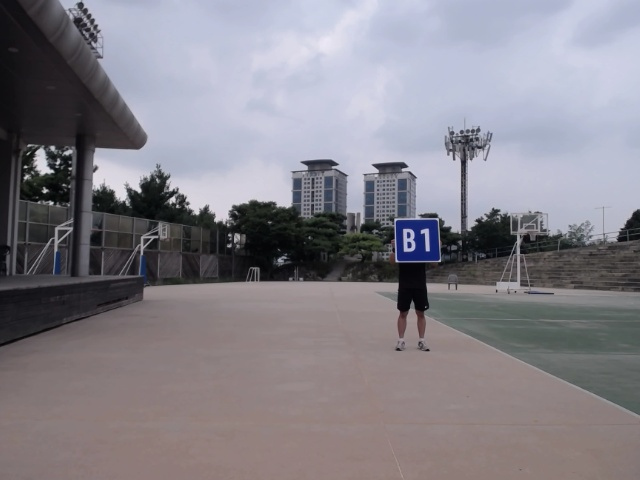delivery_b1: (394, 218, 441, 262)
